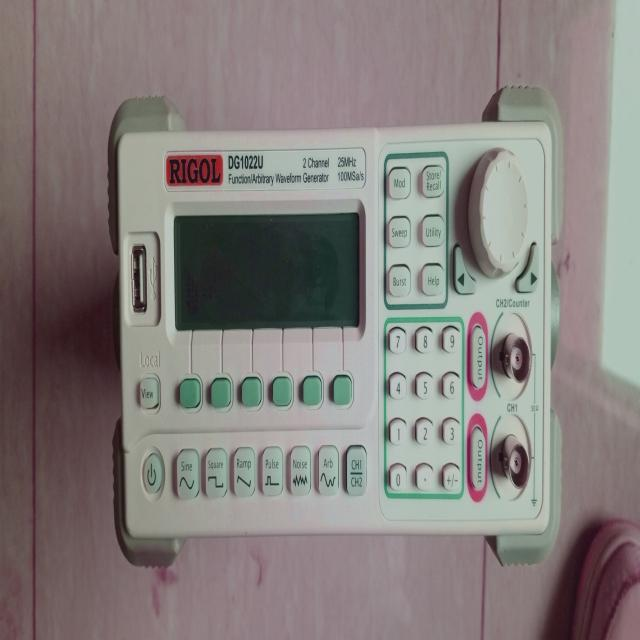Function Arbitrary Wave Form Generator 25Mhz: (89, 86, 574, 571)
